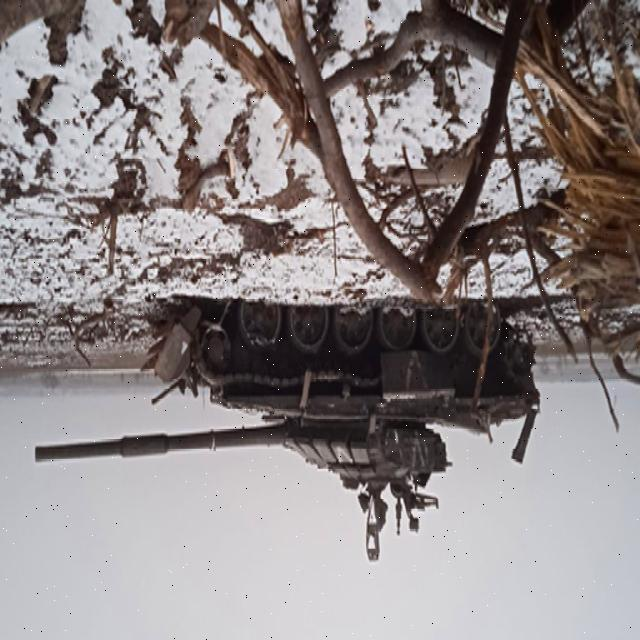TANK: (34, 284, 544, 562)
